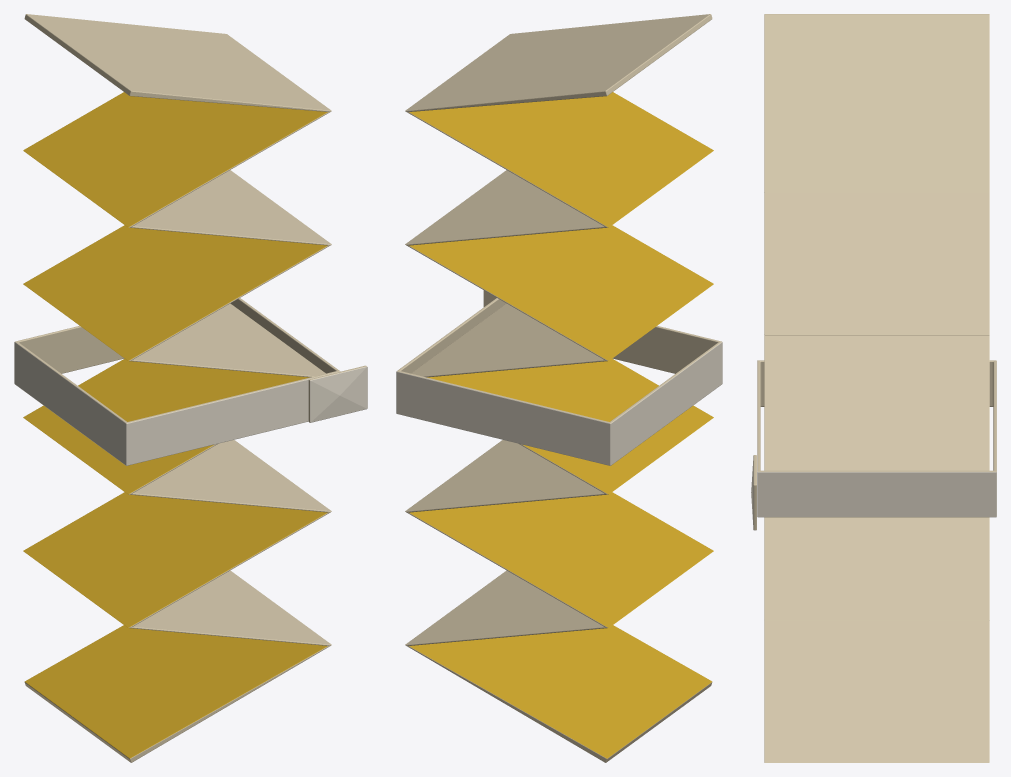
The model's file is achievement-quarter-year-habit.glb.
The picture shows the model from 3 angles, left to right: view 1: azimuth 30°, elevation 25°; view 2: azimuth 150°, elevation 25°; view 3: azimuth 270°, elevation 25°; orthographic projection. The views are drawn at different scales.
Parts seen in each view (by area): view 1: achievement-quarter-year-habit; view 2: achievement-quarter-year-habit; view 3: achievement-quarter-year-habit.
Part boxes in pixels (x1,y1,x2,y2): achievement-quarter-year-habit: [14, 14, 367, 762]; achievement-quarter-year-habit: [396, 14, 722, 762]; achievement-quarter-year-habit: [751, 14, 996, 762].
Size of the model in its own units: 0.9958 by 2.67 by 0.8277.
